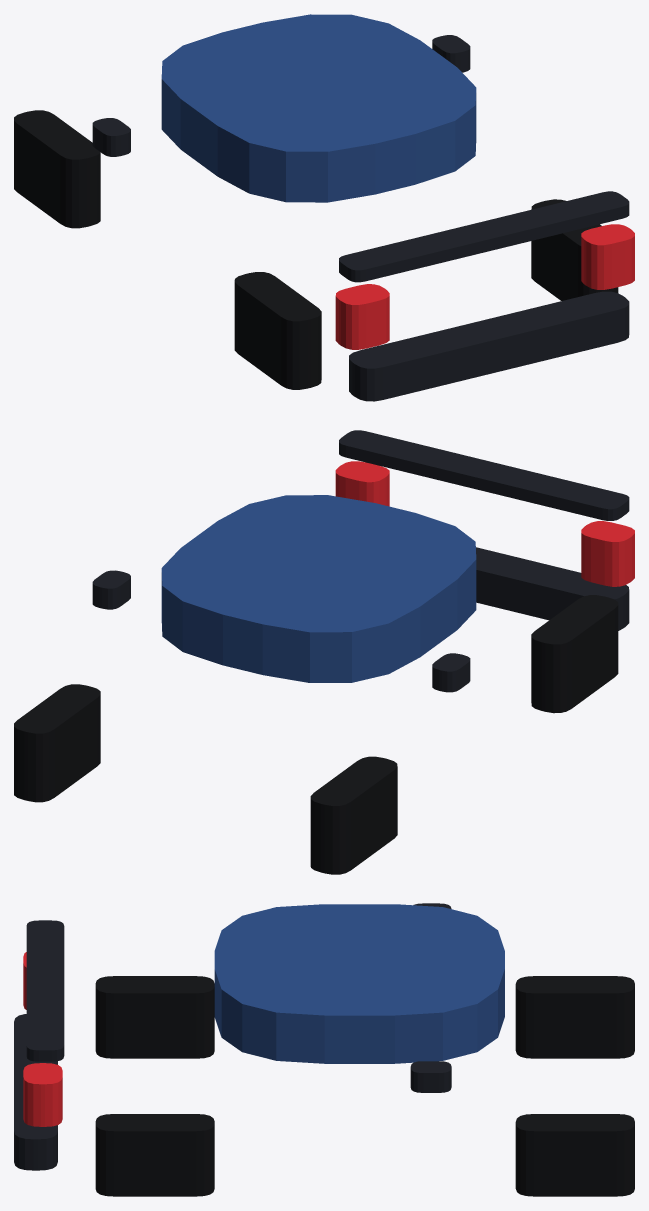
Rendered from car_parts_sports.glb.
3 views of the same model, one above another, from view 1: azimuth 30°, elevation 25°; view 2: azimuth 150°, elevation 25°; view 3: azimuth 270°, elevation 25° (orthographic). The views are drawn at different scales.
Bounding box in the file's own units: 2.56 × 1.12 × 3.96.
